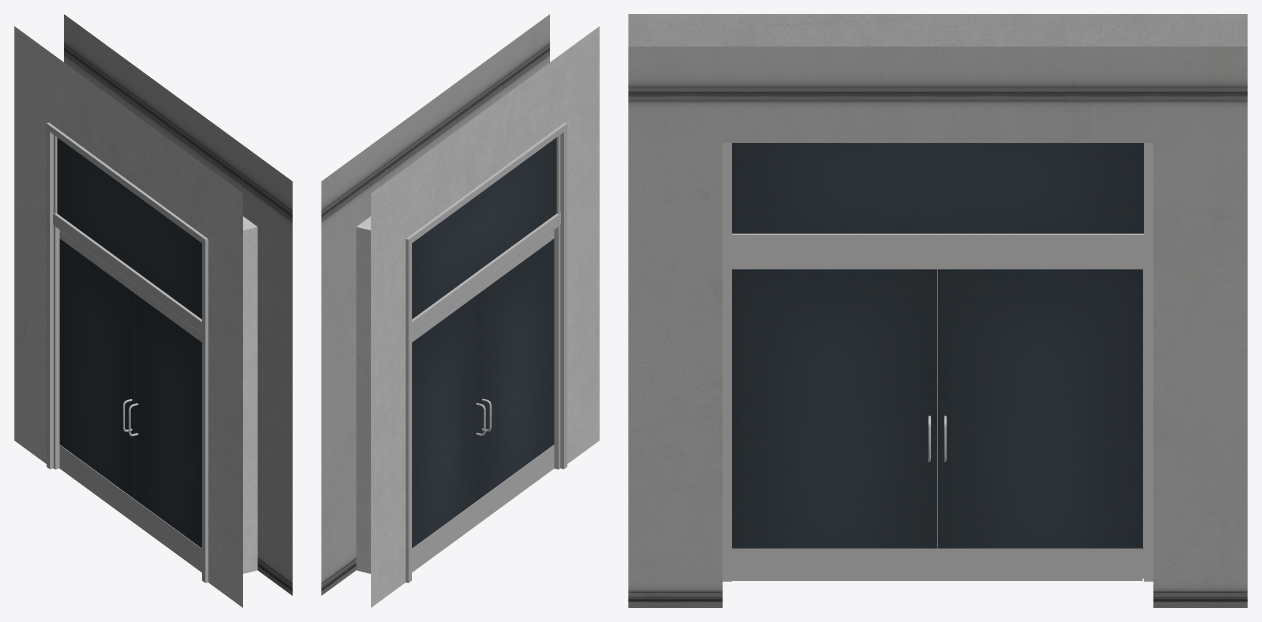
File: MB_Entrance_A_02.fbx
3 renders of one model, left to right at view 1: azimuth 30°, elevation 25°; view 2: azimuth 150°, elevation 25°; view 3: azimuth 270°, elevation 25°, orthographic. The views are drawn at different scales.
Parts seen in each view (by area): view 1: MB_Entrance_A_02, MB_Door_Glass_02_LOD0, MB_Door_Glass_01_LOD0; view 2: MB_Entrance_A_02, MB_Door_Glass_01_LOD0, MB_Door_Glass_02_LOD0; view 3: MB_Entrance_A_02, MB_Door_Glass_01_LOD0, MB_Door_Glass_02_LOD0.
Boxes of the visible parts, x1,y1,x2,y2 form: MB_Entrance_A_02: (14,14,292,607); MB_Door_Glass_02_LOD0: (59,230,134,522); MB_Door_Glass_01_LOD0: (128,285,201,572); MB_Entrance_A_02: (321,14,599,607); MB_Door_Glass_01_LOD0: (479,230,554,522); MB_Door_Glass_02_LOD0: (412,284,485,572); MB_Entrance_A_02: (628,14,1247,607); MB_Door_Glass_01_LOD0: (732,250,937,580); MB_Door_Glass_02_LOD0: (937,250,1142,580).
Size of what is drawn, in the model's own units: 53.17 by 400 by 400.
